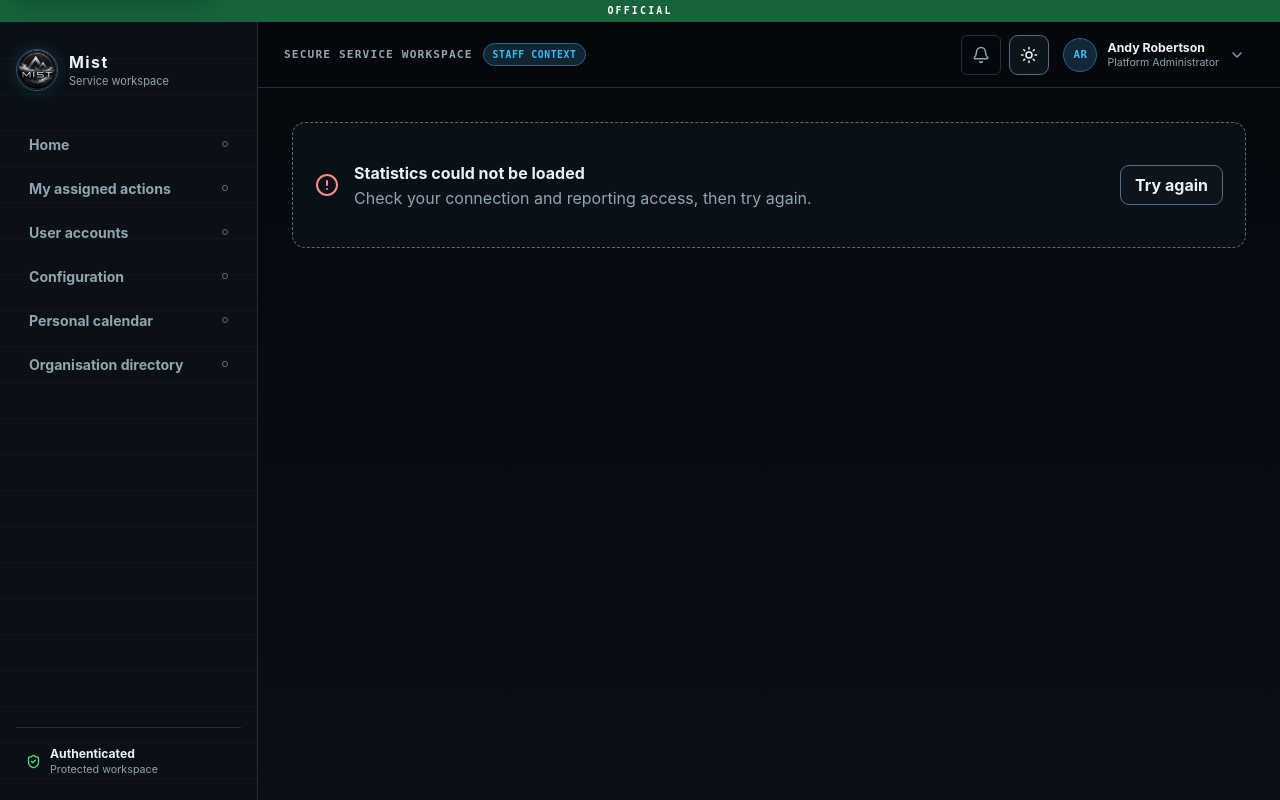
Test: operational statistics › handles unavailable access and retries scope failures
The width and height of the screenshot is (1280, 800).
Click the button "Try again": [1172, 185] box top-left (1120, 165), bottom-right (1223, 205)
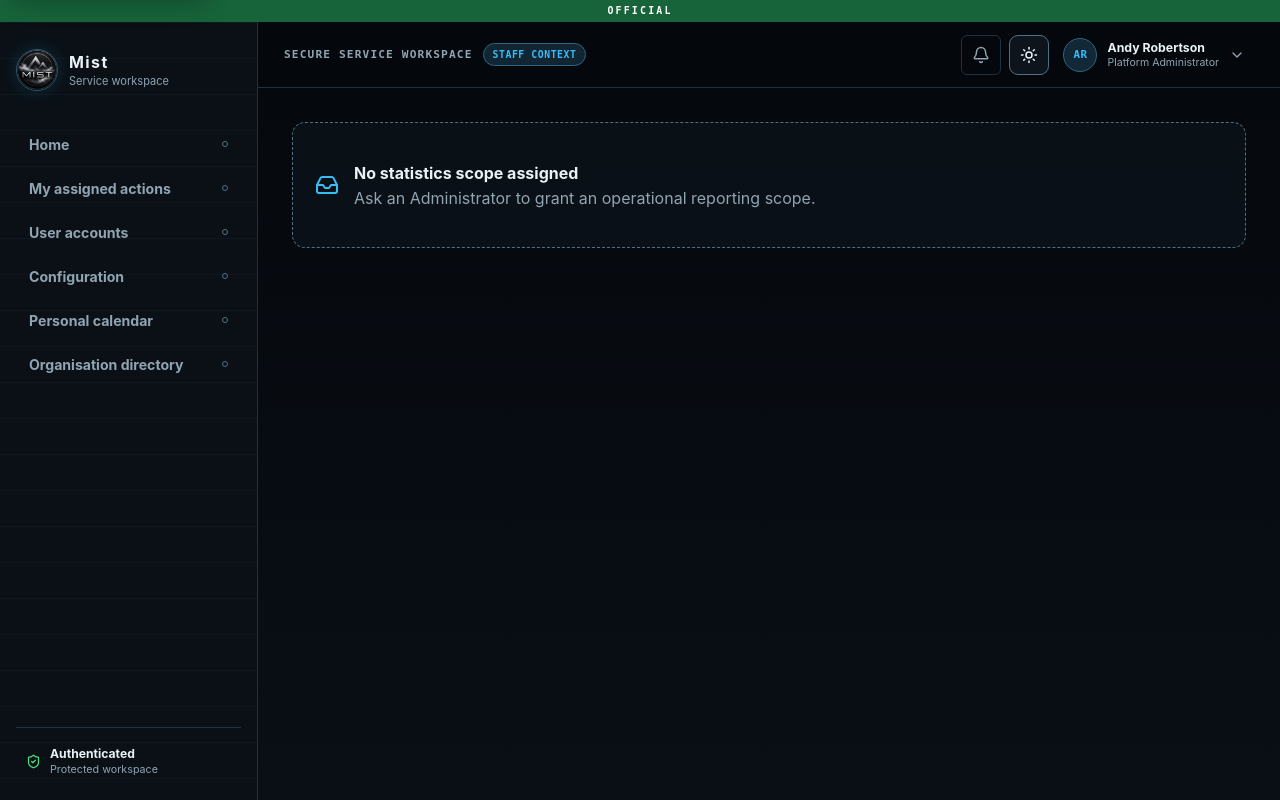
Expected: the heading "No statistics scope assigned" is shown, top-left (354, 162), bottom-right (578, 182)
